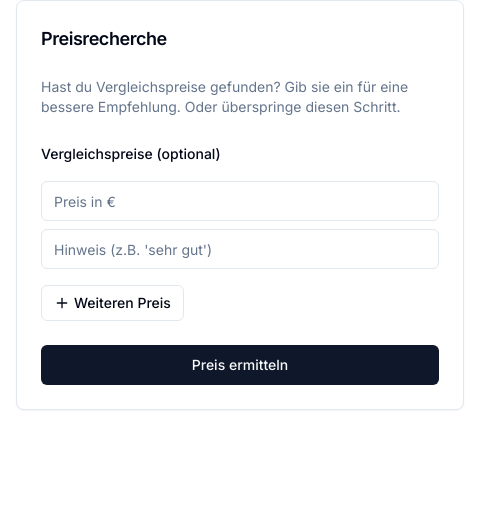
Scenario: PricingView › without pricing data › allows adding manual prices
This screenshot has width=481, height=531.
What coordinates should you click on to do the following:
click the button "Weiteren Preis"
I would click on:
 (112, 303)
Its box is [41, 285, 184, 321].
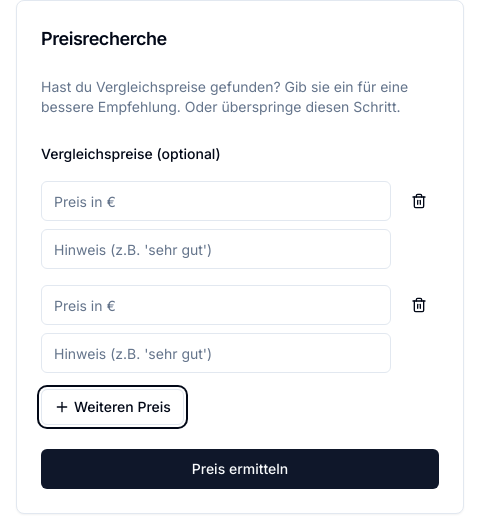
Expected: the number of number fields with placeholder "Preis in €" is 2, [41, 181, 391, 221]; [41, 285, 391, 325]
